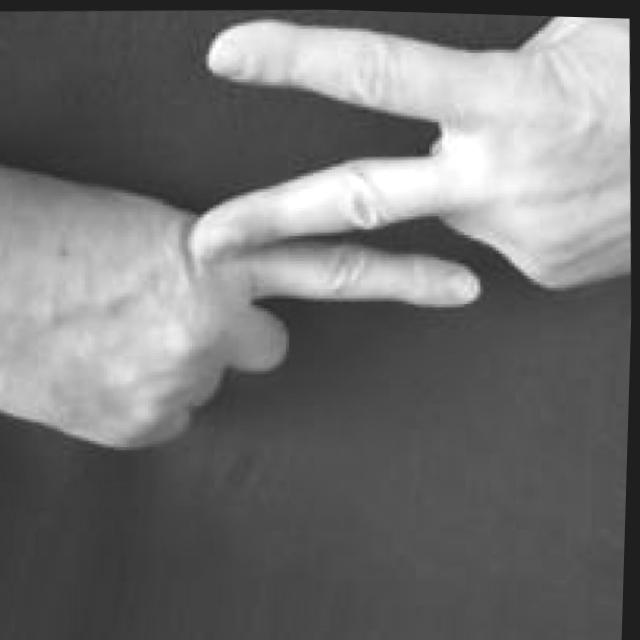Z: (0, 0, 640, 469)
